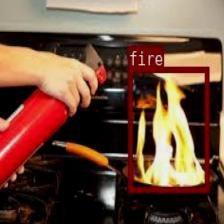fire: (128, 66, 208, 192)
